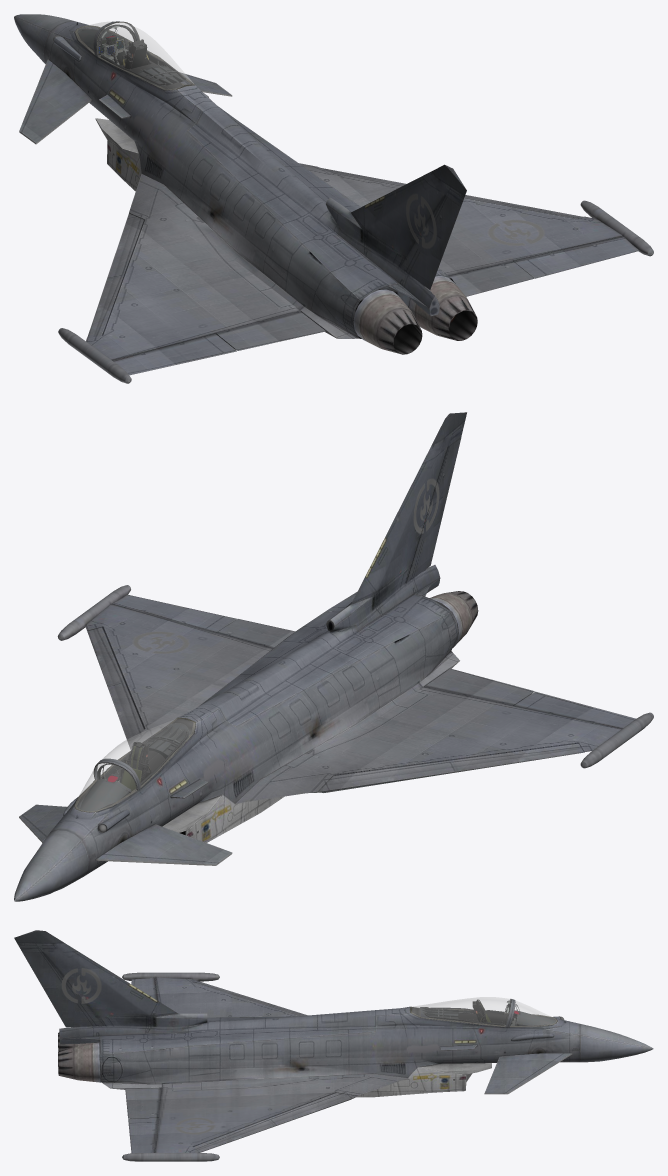
The model's file is Typhoon.glb.
The picture shows the model from 3 angles, top to bottom: view 1: azimuth 30°, elevation 25°; view 2: azimuth 150°, elevation 25°; view 3: azimuth 270°, elevation 25°; orthographic projection. The views are drawn at different scales.
Visible parts, largest first — view 1: Object_4, Object_6, Object_8; view 2: Object_4, Object_6, Object_8; view 3: Object_4, Object_6, Object_8.
Boxes of the visible parts, <box> form: Object_4: <box>14,14,653,383</box>; Object_6: <box>75,21,193,89</box>; Object_8: <box>77,24,186,89</box>; Object_4: <box>14,412,653,901</box>; Object_6: <box>75,718,195,811</box>; Object_8: <box>78,723,189,811</box>; Object_4: <box>14,930,653,1161</box>; Object_6: <box>412,997,556,1026</box>; Object_8: <box>419,999,555,1025</box>.
Size of the model in its own units: 6.18 by 2.49 by 9.08.
Materials: 3 (2 with a texture image).
